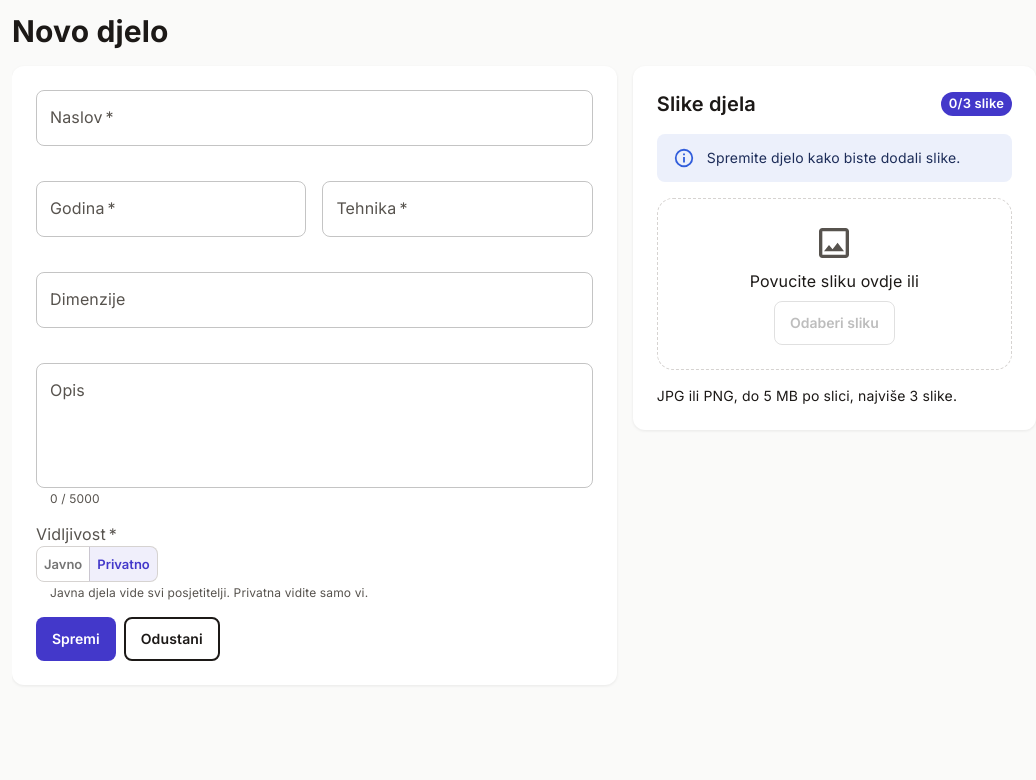
ArtworkFormPage › validates required fields before making an API request
This screenshot has width=1036, height=780.
Click the button "Spremi" at (76, 639), box x1=36 y1=617 x2=116 y2=661
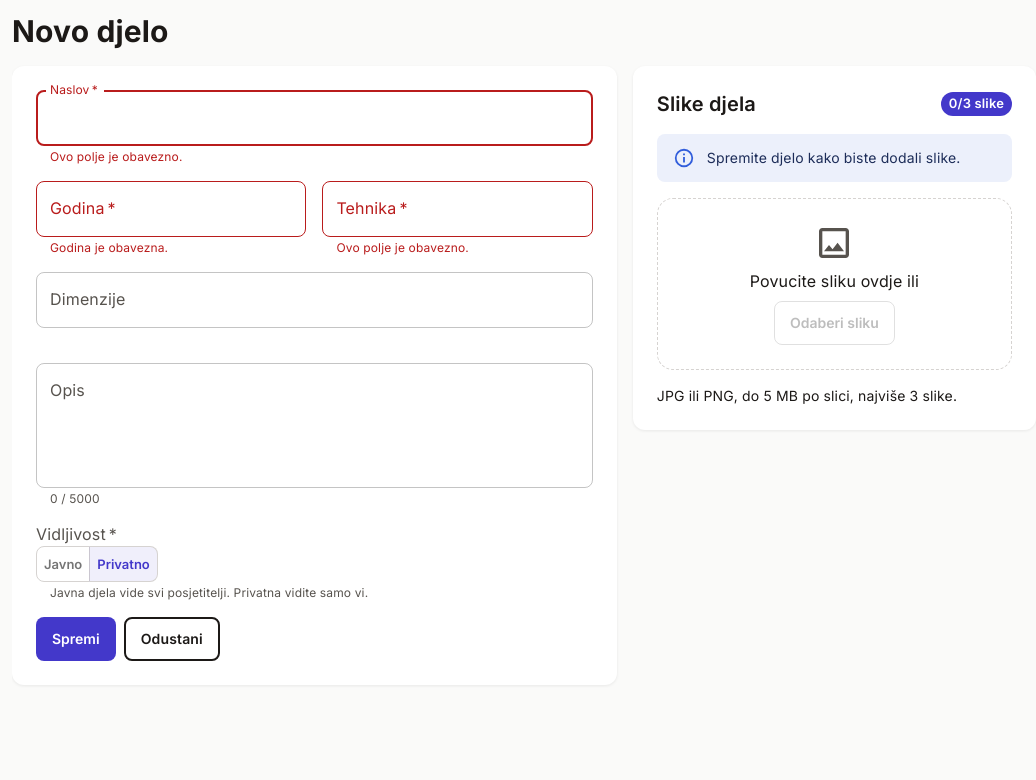
Check: the text "Ovo polje je obavezno." is shown 2 times, box x1=50 y1=149 x2=182 y2=164; x1=336 y1=240 x2=469 y2=255
Check: the text "Godina je obavezna." is shown, box x1=50 y1=240 x2=168 y2=255
